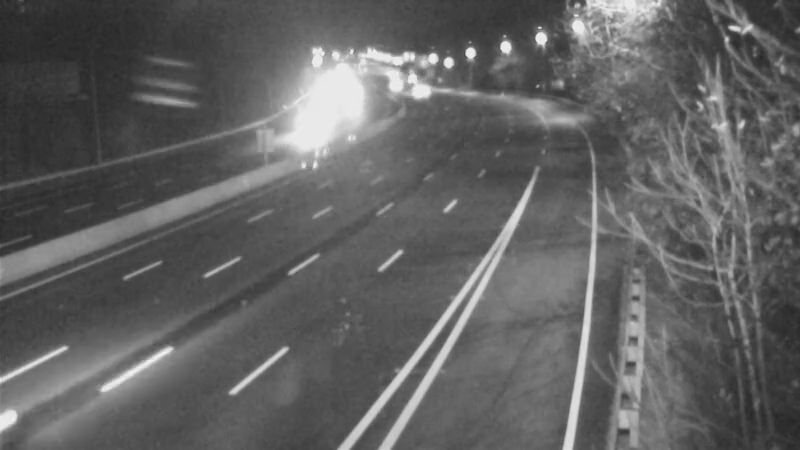vehicle: (370, 60, 420, 110), (392, 64, 442, 114), (279, 104, 329, 154)
